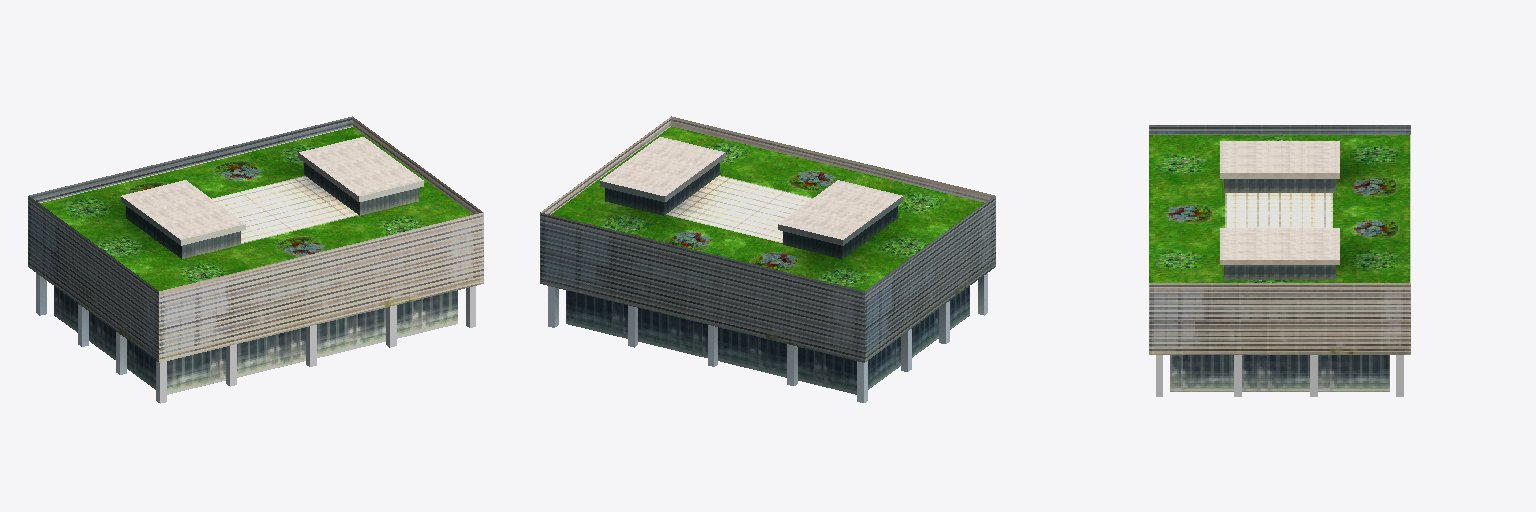
The picture shows the model from 3 angles: view 1: azimuth 30°, elevation 25°; view 2: azimuth 150°, elevation 25°; view 3: azimuth 270°, elevation 25°; orthographic projection.
Visible parts, largest first — view 1: 4E2; view 2: 4E2; view 3: 4E2.
Boxes of the visible parts, x1=… form: 4E2: x1=28, y1=116, x2=483, y2=403; 4E2: x1=540, y1=116, x2=995, y2=402; 4E2: x1=1149, y1=125, x2=1410, y2=396.
Bounding box in the file's own units: 35.14 × 13.2 × 24.59.
1 materials, 1 textured.